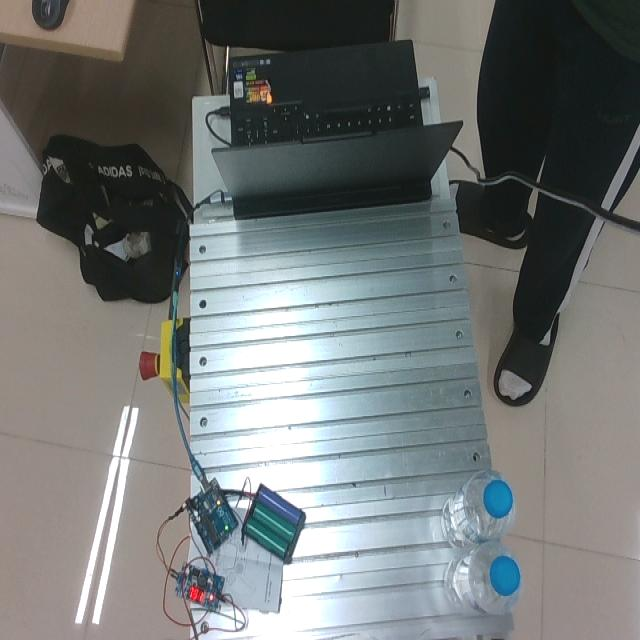lavie: (443, 539, 522, 616), (443, 471, 514, 545)
